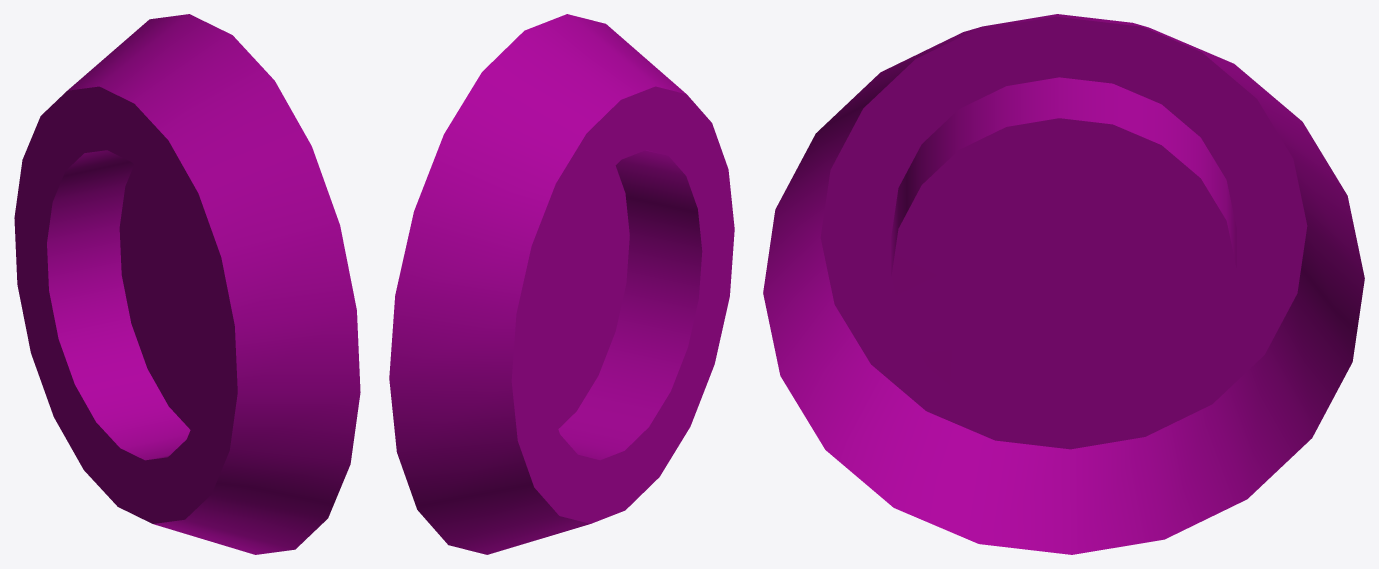
File: Gare_2_Vis.fbx
3 renders of one model, left to right at view 1: azimuth 30°, elevation 25°; view 2: azimuth 150°, elevation 25°; view 3: azimuth 270°, elevation 25°, orthographic. The views are drawn at different scales.
Parts seen in each view (by area): view 1: Gare_2_Vis; view 2: Gare_2_Vis; view 3: Gare_2_Vis.
Boxes of the visible parts, bbox=[...] form: Gare_2_Vis: bbox=[14, 14, 360, 554]; Gare_2_Vis: bbox=[389, 14, 734, 554]; Gare_2_Vis: bbox=[763, 14, 1364, 554].
Size of the model in its own units: 0.0524 by 0.2321 by 0.2322.
